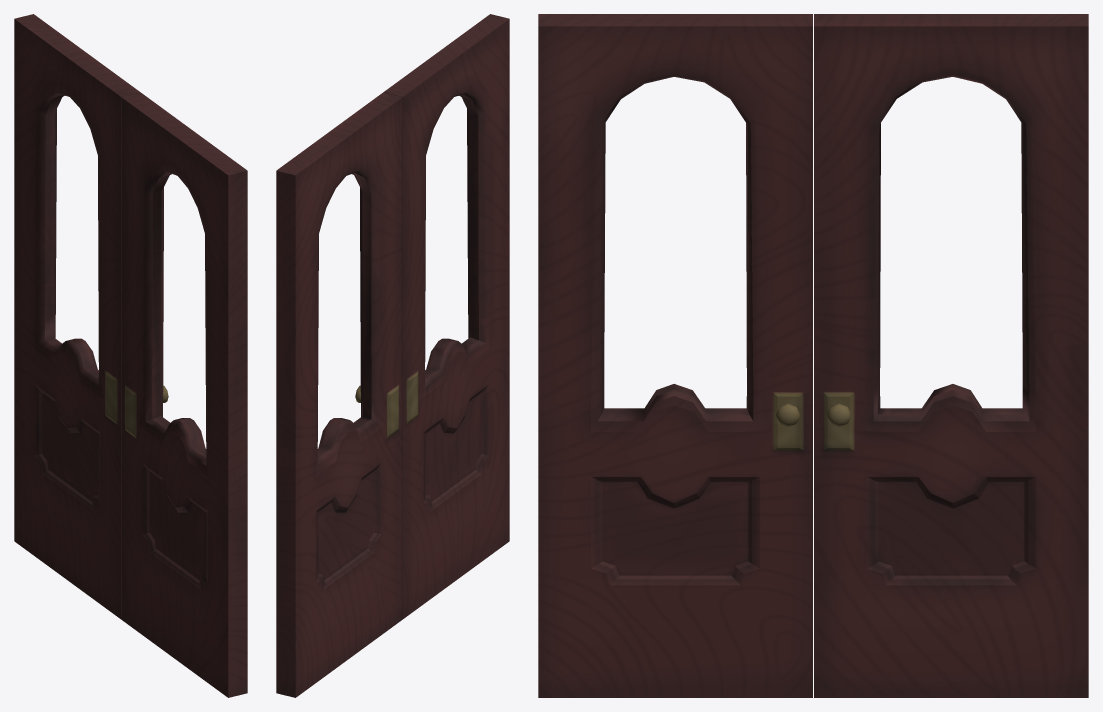
File: FoyerEntrance.fbx
3 views of the same model, side by side, from view 1: azimuth 30°, elevation 25°; view 2: azimuth 150°, elevation 25°; view 3: azimuth 270°, elevation 25° (orthographic). The views are drawn at different scales.
Visible parts, largest first — view 1: polySurface21; view 2: polySurface21; view 3: polySurface21.
Boxes of the visible parts, x1,y1,x2,y2 form: polySurface21: (14,14,247,697); polySurface21: (276,14,509,697); polySurface21: (538,14,1088,697).
Bounding box in the file's own units: 5.95 × 80.91 × 60.07.
